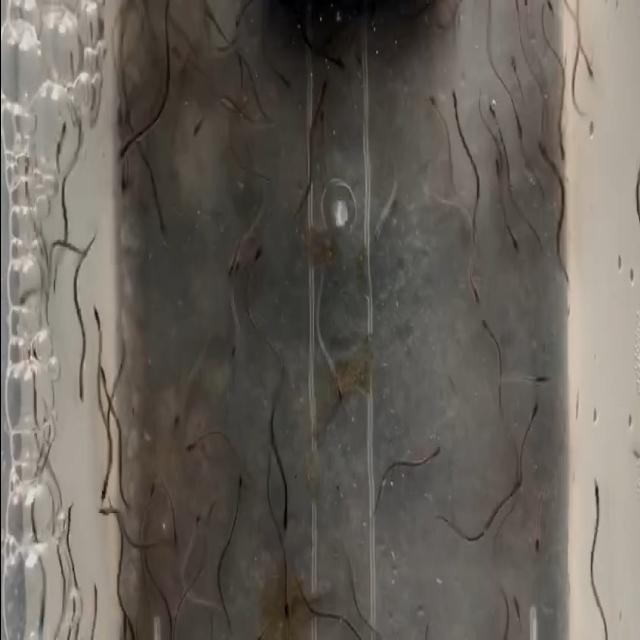active_glass_eel: (224, 305, 246, 360), (527, 518, 546, 564), (526, 396, 548, 434), (142, 468, 160, 514), (511, 580, 526, 634), (96, 462, 116, 502), (504, 220, 521, 264), (554, 110, 568, 162), (96, 362, 112, 406), (91, 305, 107, 349), (74, 368, 90, 412), (590, 470, 604, 520), (530, 349, 546, 392), (324, 48, 348, 76), (167, 396, 185, 433), (312, 74, 330, 110), (272, 70, 292, 102), (180, 428, 198, 463), (56, 111, 70, 156), (222, 248, 240, 282), (31, 608, 50, 640), (368, 214, 388, 244), (249, 242, 265, 278), (120, 153, 134, 194), (233, 458, 246, 502), (98, 498, 118, 526), (424, 85, 440, 119), (188, 504, 204, 538), (116, 134, 132, 168), (536, 134, 554, 164), (280, 584, 292, 628), (230, 244, 242, 288), (280, 504, 294, 541), (466, 274, 482, 306), (189, 106, 206, 136), (451, 81, 462, 127), (166, 518, 180, 552), (201, 4, 221, 27), (480, 319, 495, 349), (330, 364, 342, 401), (506, 472, 520, 503), (584, 50, 594, 89), (512, 110, 524, 142), (90, 582, 102, 613), (506, 48, 518, 78), (316, 106, 326, 142), (428, 440, 444, 462), (158, 212, 168, 247), (487, 94, 498, 124), (170, 47, 186, 65)
